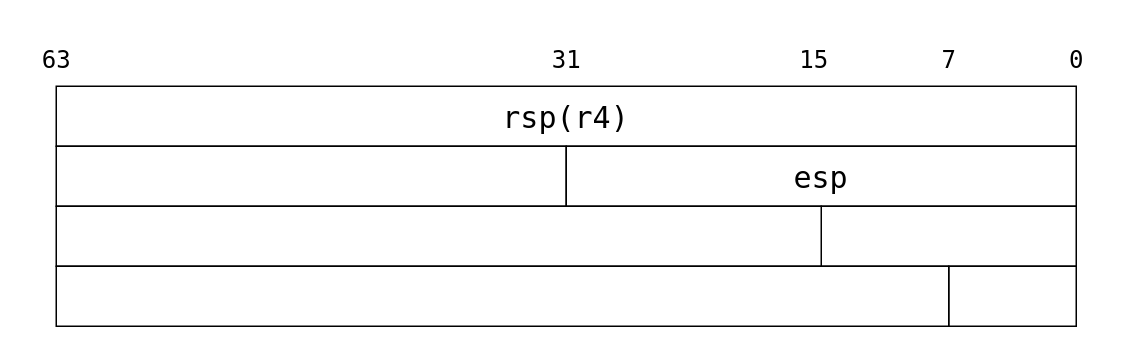
The diagram is 1124 pixels wide and 353 high, and some of its shapes have lost their labels. The box of each missing label's shape, as (x1, y1, x2, y2) in pixels:
sp: (820, 205, 1076, 266)
spl: (947, 265, 1076, 326)
